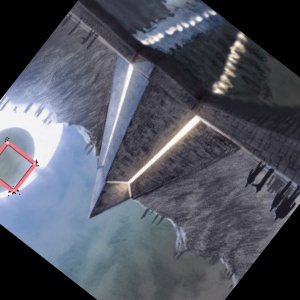square: (1, 136, 42, 197)
